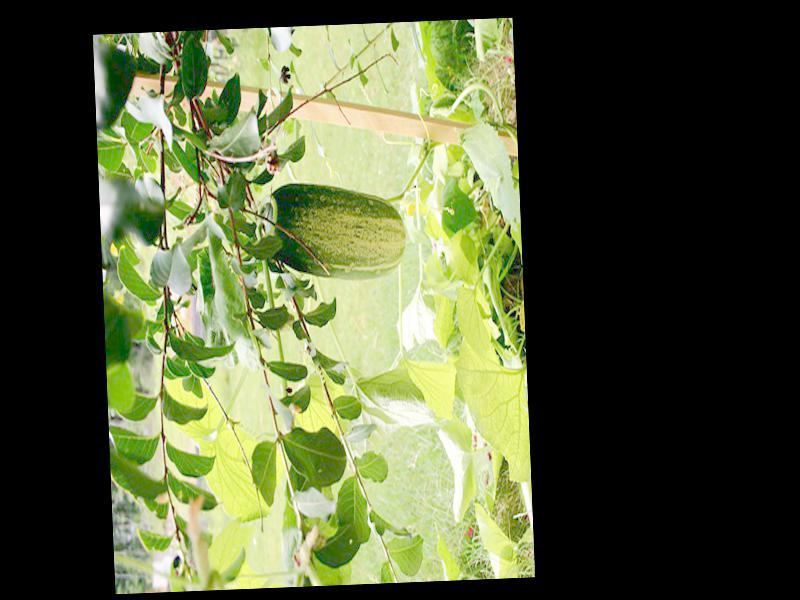Cucumber: (255, 177, 408, 281)
